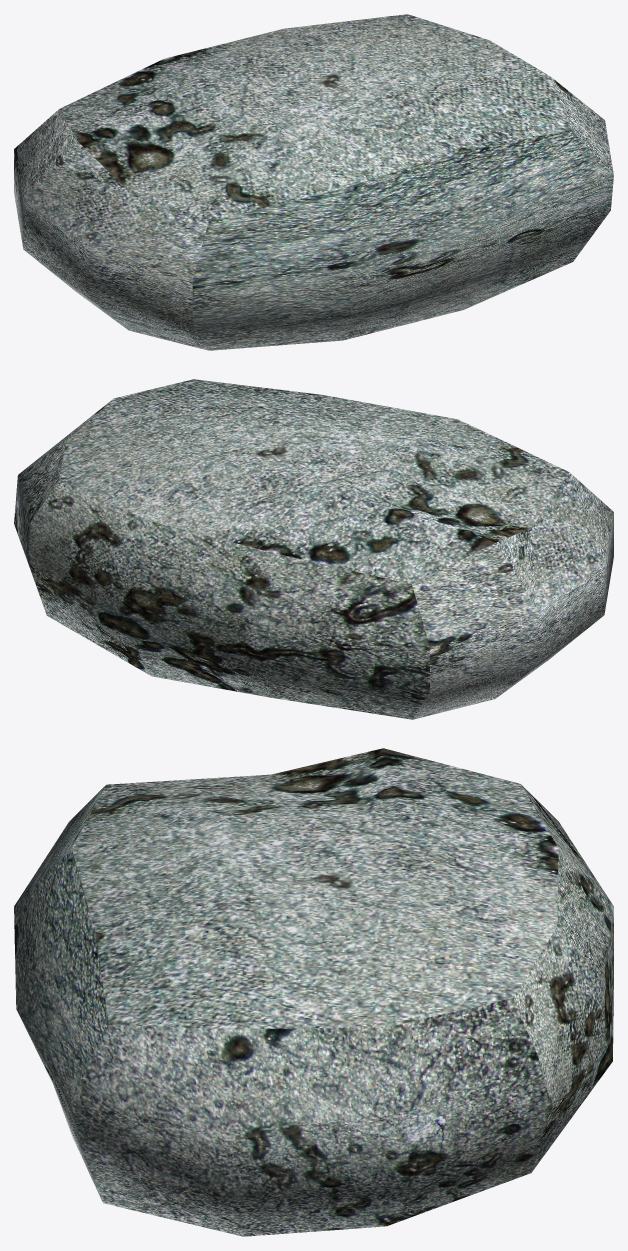
File: RockSet.dae
3 views of the same model, one above another, from view 1: azimuth 30°, elevation 25°; view 2: azimuth 150°, elevation 25°; view 3: azimuth 270°, elevation 25° (orthographic). The views are drawn at different scales.
Parts seen in each view (by area): view 1: Cube; view 2: Cube; view 3: Cube.
Boxes of the visible parts, x1,y1,x2,y2 form: Cube: (14, 14, 613, 350); Cube: (14, 379, 613, 719); Cube: (14, 748, 613, 1236).
Size of the model in its own units: 0.4198 by 0.3077 by 0.1436.
